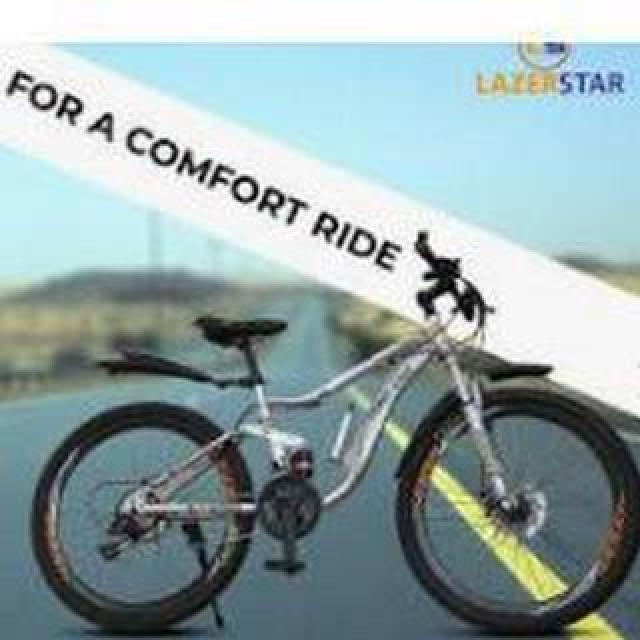Person: (30, 226, 640, 638)
